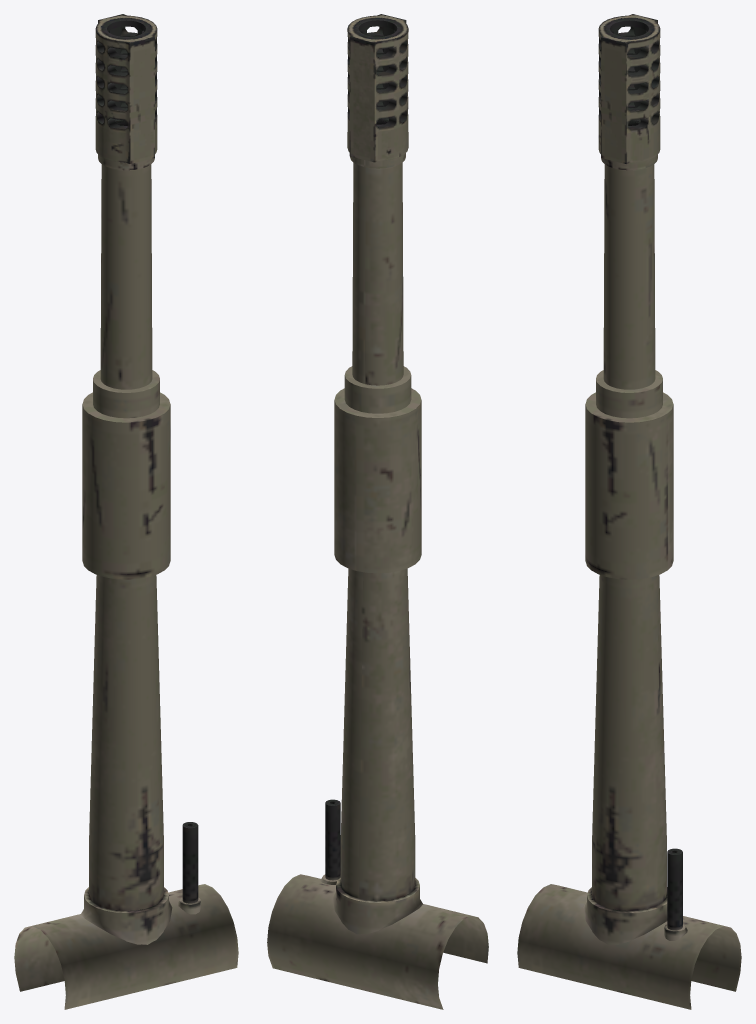
The model's file is Gun_02.glb.
The picture shows the model from 3 angles, left to right: view 1: azimuth 30°, elevation 25°; view 2: azimuth 150°, elevation 25°; view 3: azimuth 330°, elevation 25°; orthographic projection.
Visible parts, largest first — view 1: set_0_group_0; view 2: set_0_group_0; view 3: set_0_group_0.
Part boxes in pixels (x1=…): set_0_group_0: x1=14, y1=14, x2=238, y2=1009; set_0_group_0: x1=267, y1=14, x2=488, y2=1009; set_0_group_0: x1=517, y1=14, x2=741, y2=1009.
Size of the model in its own units: 0.6 by 3.18 by 0.3099.
Materials: 1 (1 with a texture image).
